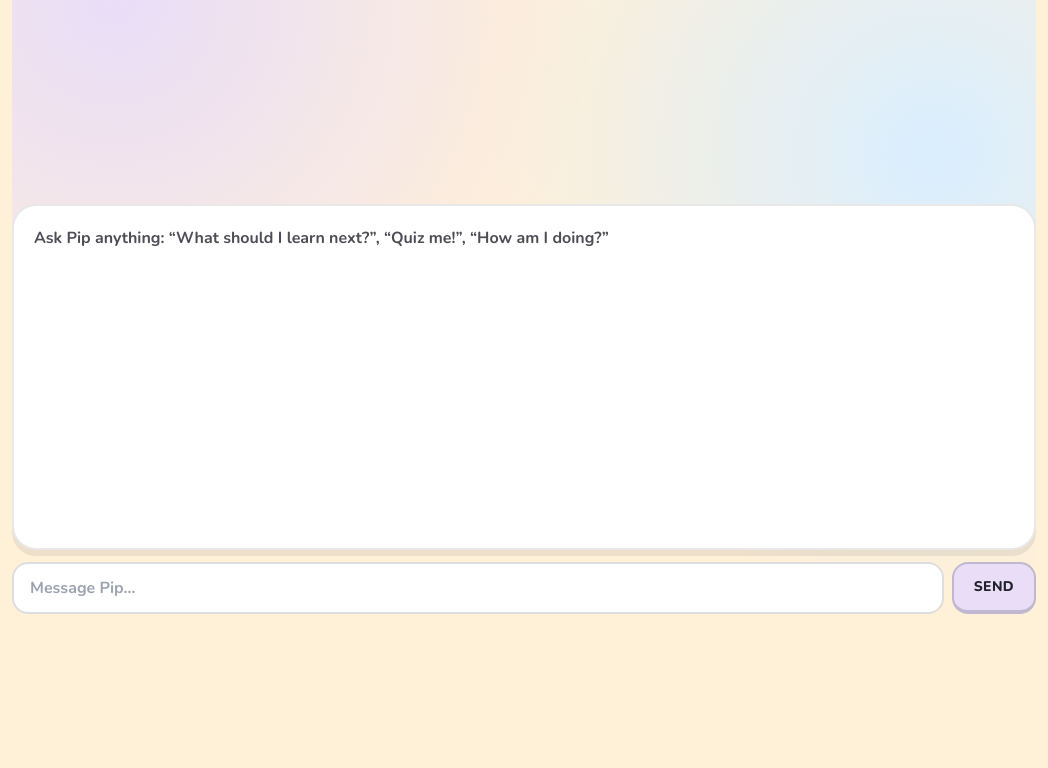
Scenario: Mentor chat › announces failures
Type "hi" into the field labelled "Message Pip" at (478, 588), box 12,562 -> 944,614
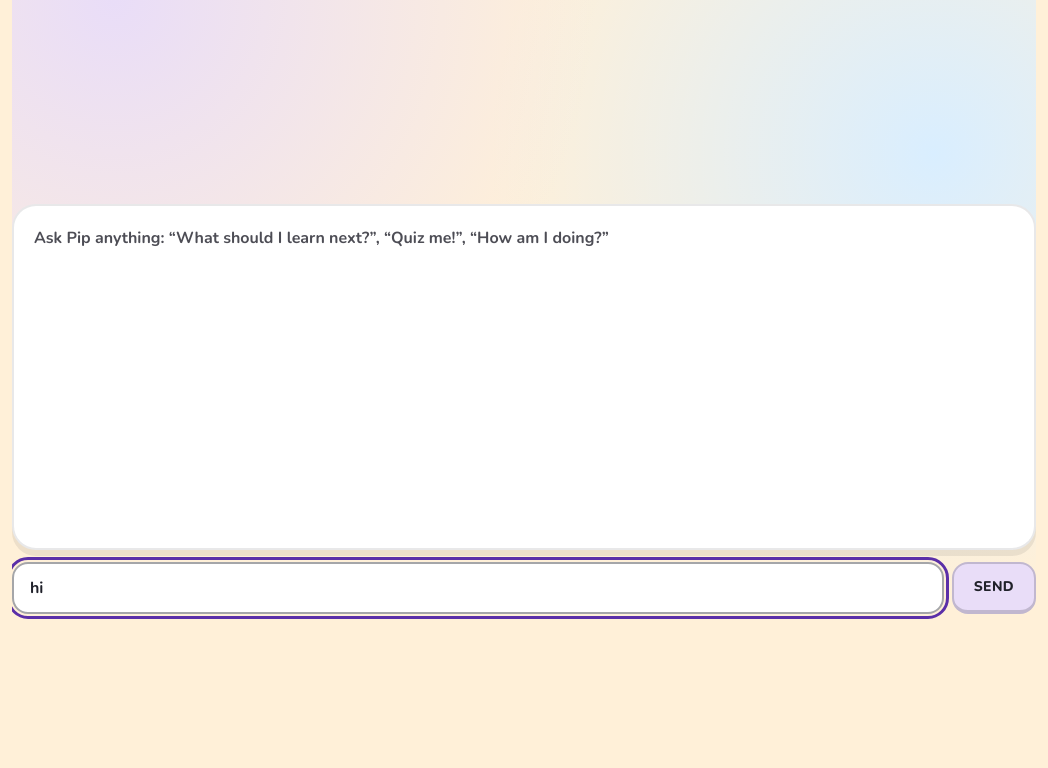
Click the button "Send" at (994, 588), box 952,562 -> 1036,614
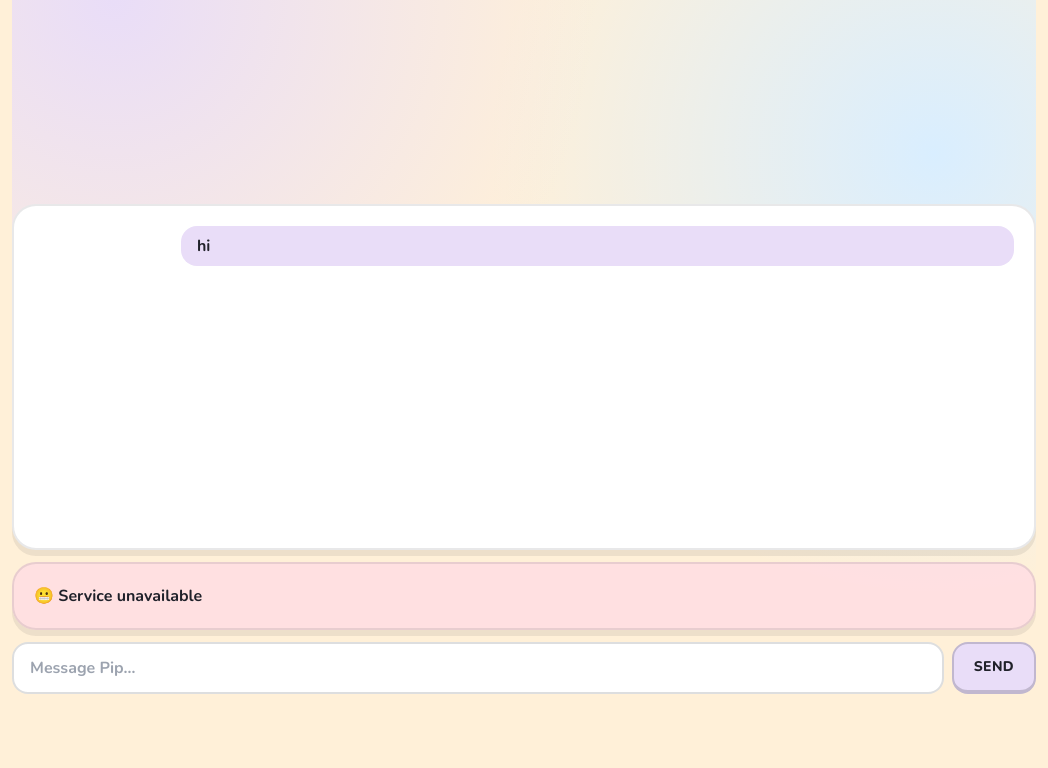
Now the message shows "Service unavailable", box 58,585 -> 202,607
